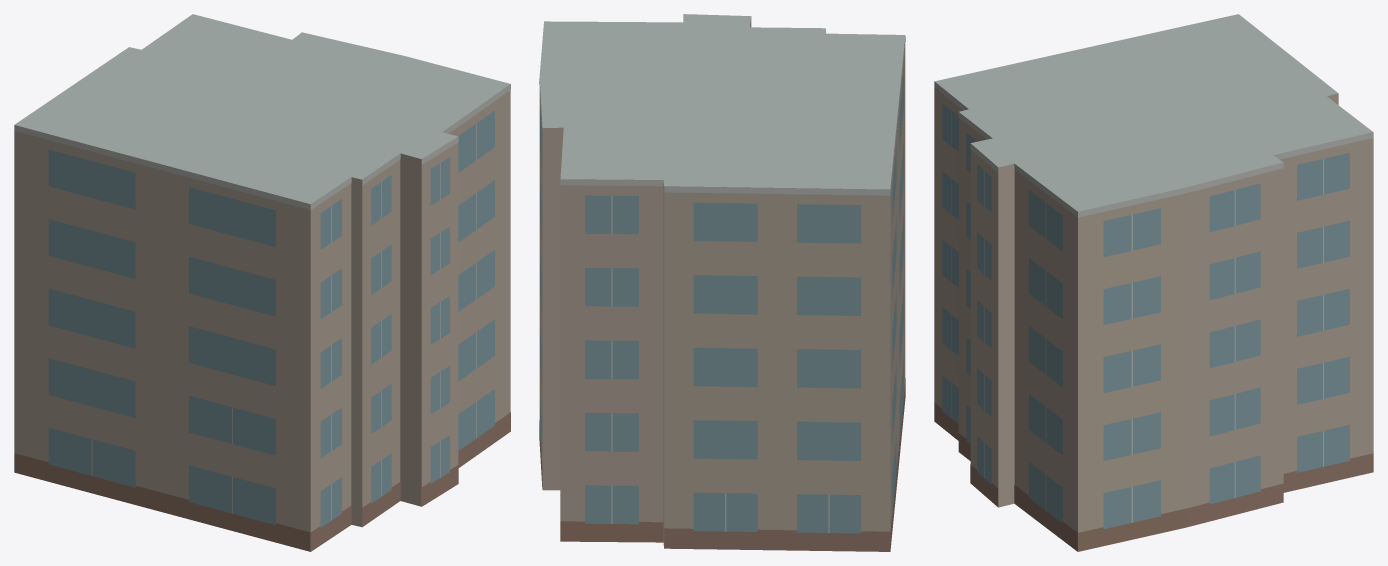
File: survey-upis-32868680.glb
3 renders of one model, left to right at view 1: azimuth 30°, elevation 25°; view 2: azimuth 150°, elevation 25°; view 3: azimuth 270°, elevation 25°, orthographic. The views are drawn at different scales.
Visible parts, largest first — view 1: survey-upis-32868680.tmp; view 2: survey-upis-32868680.tmp; view 3: survey-upis-32868680.tmp.
Part boxes in pixels (left/top/right/bottom): survey-upis-32868680.tmp: left=14, top=14, right=510, bottom=551; survey-upis-32868680.tmp: left=539, top=14, right=905, bottom=551; survey-upis-32868680.tmp: left=934, top=14, right=1373, bottom=551.
Size of the model in its own units: 17.85 by 14.3 by 16.74.
